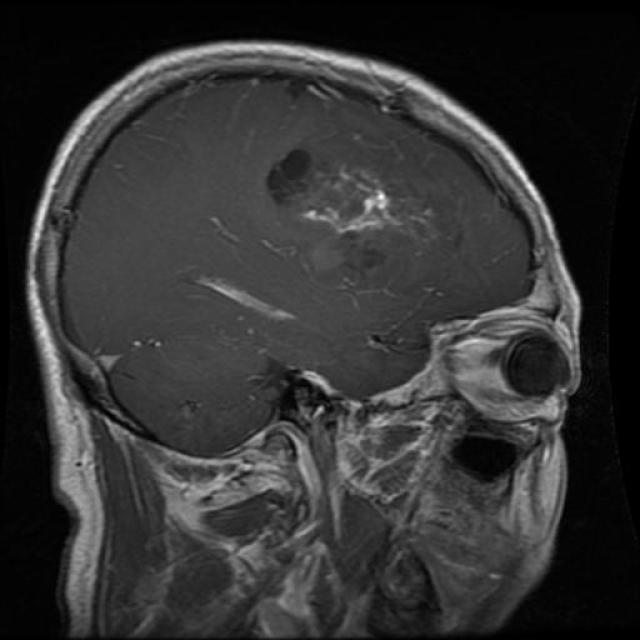glioma: (256, 144, 430, 264)
